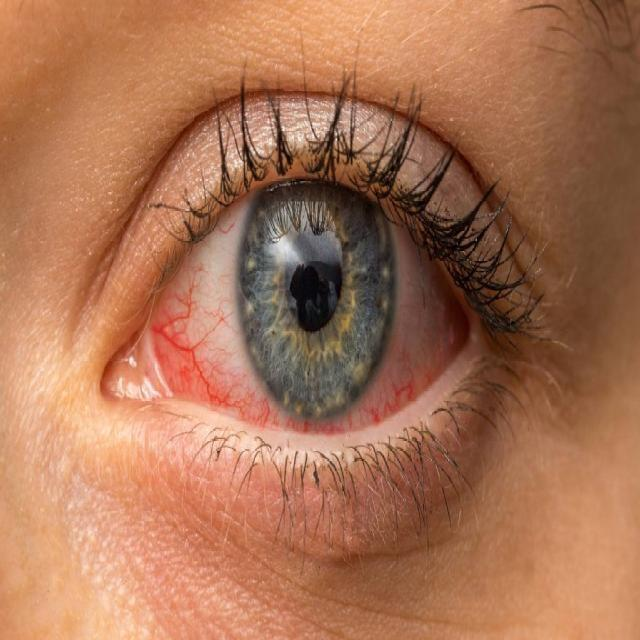Conjunctivitis: (100, 249, 494, 436)
